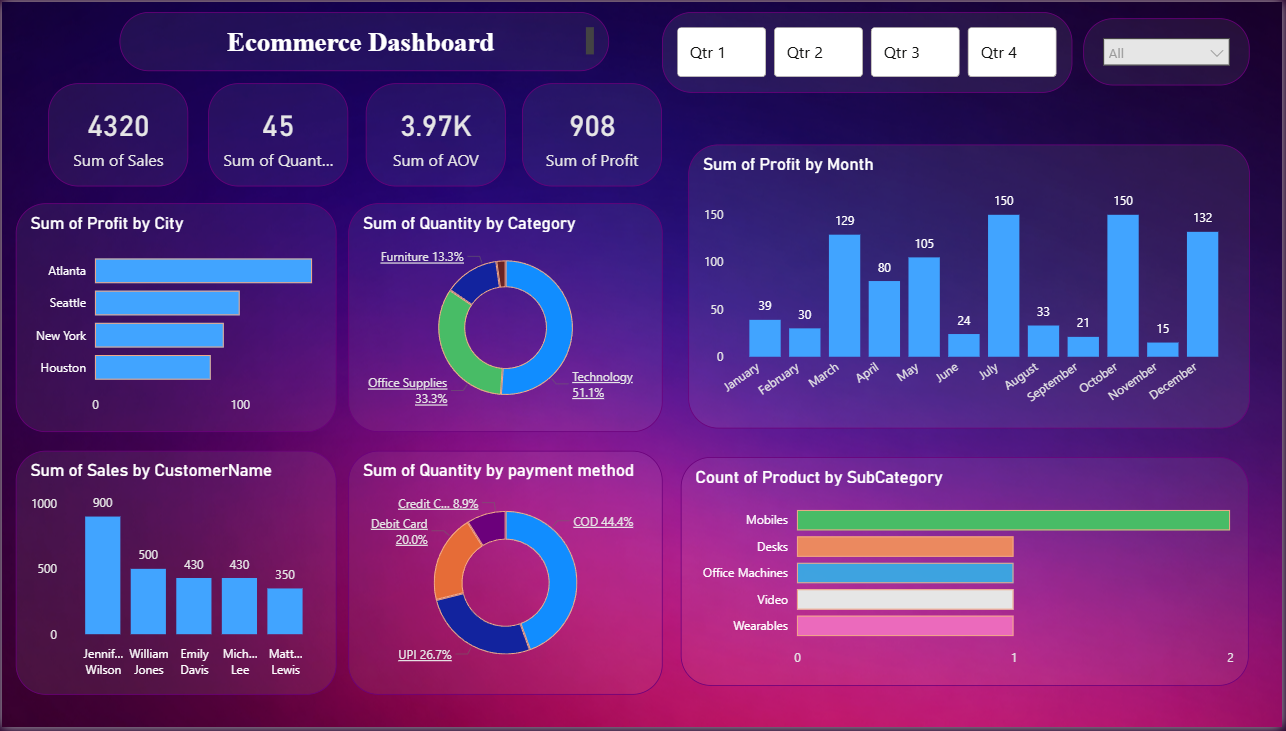

The dashboard page shown, as its layout file describes it:
{"tool":"powerbi","page":{"name":"Page 1","canvas":[1280,725],"ordinal":0},"visuals":[{"type":"textbox","box":[118,9.6,489.9,59],"z":0},{"type":"columnChart","fields":{"Y":["Order_Details.Profit"],"Category":["Orders_12_Months.OrderDate.Variation.Date Hierarchy.Month"]},"box":[686.1,142.7,561.2,284],"z":1000},{"type":"barChart","fields":{"Category":["Order_Details.SubCategory"],"Y":["Order_Details.Product"]},"box":[679.2,455.6,568.1,229.2],"z":2000},{"type":"donutChart","fields":{"Category":["Order_Details.Category"],"Y":["Order_Details.Quantity"]},"box":[345.8,201.7,314.2,229.2],"z":3000},{"type":"donutChart","fields":{"Category":["Order_Details.payment method"],"Y":["Order_Details.Quantity"]},"box":[345.8,448.7,314.2,244.3],"z":4000},{"type":"card","fields":{"Values":["Order_Details.Sales"]},"box":[46.7,81,140,102.9],"z":5000},{"type":"card","fields":{"Values":["Order_Details.Quantity"]},"box":[205.8,81,140,102.9],"z":6000},{"type":"card","fields":{"Values":["Order_Details.Profit"]},"box":[520.1,81,140,102.9],"z":7000},{"type":"card","fields":{"Values":["Order_Details.AOV"]},"box":[363.6,81,140,102.9],"z":8000},{"type":"barChart","fields":{"Y":["Order_Details.Profit"],"Category":["Orders_12_Months.City"]},"box":[13.7,201.7,321.1,229.2],"z":9000},{"type":"columnChart","fields":{"Category":["Orders_12_Months.CustomerName"],"Y":["Order_Details.Sales"]},"box":[13.7,448.7,321.1,244.3],"z":10000},{"type":"advancedSlicerVisual","fields":{"Values":["Orders_12_Months.Quarter_Text"]},"box":[660,9.6,410.3,81],"z":11000},{"type":"slicer","fields":{"Values":["Orders_12_Months.City"]},"box":[1081.2,16.2,166.2,67.5],"z":12000}]}

Visuals, with their boxes in screenshot pixels (x1, y1, x2, y2), scaled from the page's 1280x725 canvas onto the 1286x731 screenshot:
textbox: {"left": 119, "top": 10, "right": 611, "bottom": 69}
columnChart - Order_Details.Profit x Orders_12_Months.OrderDate.Variation.Date Hierarchy.Month: {"left": 689, "top": 144, "right": 1253, "bottom": 430}
barChart - Order_Details.SubCategory x Order_Details.Product: {"left": 682, "top": 459, "right": 1253, "bottom": 690}
donutChart - Order_Details.Category x Order_Details.Quantity: {"left": 347, "top": 203, "right": 663, "bottom": 434}
donutChart - Order_Details.payment method x Order_Details.Quantity: {"left": 347, "top": 452, "right": 663, "bottom": 699}
card - Order_Details.Sales: {"left": 47, "top": 82, "right": 188, "bottom": 185}
card - Order_Details.Quantity: {"left": 207, "top": 82, "right": 347, "bottom": 185}
card - Order_Details.Profit: {"left": 523, "top": 82, "right": 663, "bottom": 185}
card - Order_Details.AOV: {"left": 365, "top": 82, "right": 506, "bottom": 185}
barChart - Order_Details.Profit x Orders_12_Months.City: {"left": 14, "top": 203, "right": 336, "bottom": 434}
columnChart - Orders_12_Months.CustomerName x Order_Details.Sales: {"left": 14, "top": 452, "right": 336, "bottom": 699}
advancedSlicerVisual - Orders_12_Months.Quarter_Text: {"left": 663, "top": 10, "right": 1075, "bottom": 91}
slicer - Orders_12_Months.City: {"left": 1086, "top": 16, "right": 1253, "bottom": 84}
